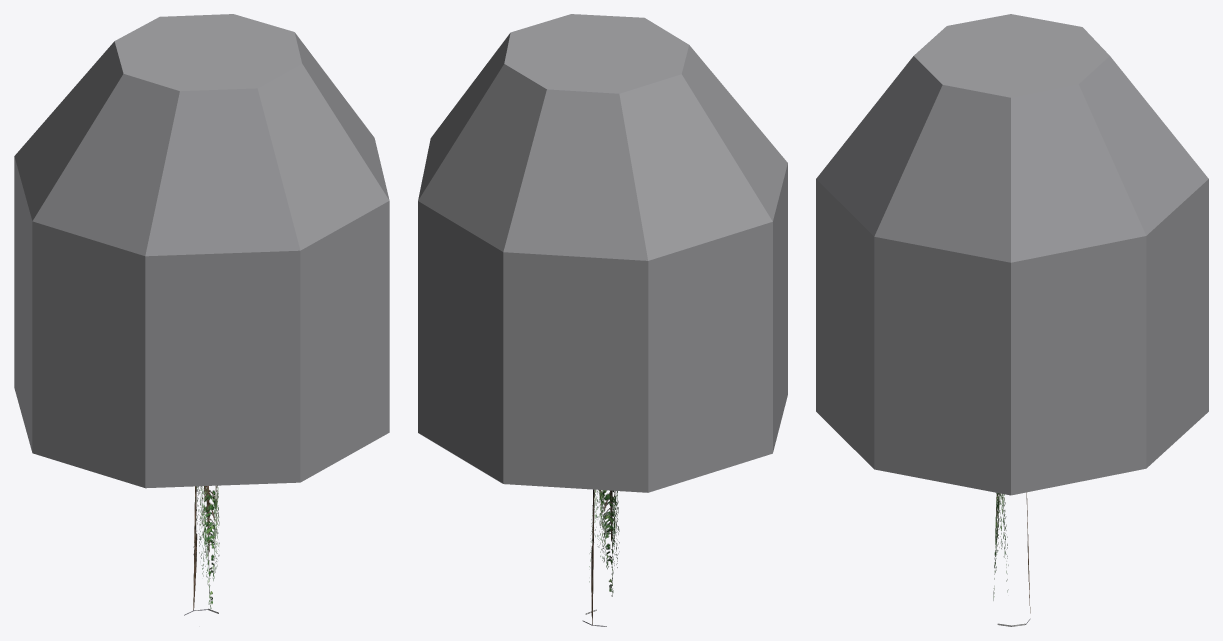
The model's file is tree4_chk.fbx.
The picture shows the model from 3 angles, left to right: view 1: azimuth 30°, elevation 25°; view 2: azimuth 150°, elevation 25°; view 3: azimuth 270°, elevation 25°; orthographic projection.
Visible parts, largest first — view 1: tree1_chk; view 2: tree1_chk; view 3: tree1_chk.
Boxes of the visible parts, box(x1,y1,x2,y2) form: tree1_chk: box(14, 14, 389, 615); tree1_chk: box(418, 14, 787, 626); tree1_chk: box(816, 14, 1208, 626).
Size of the model in its own units: 0.0604 by 0.0952 by 0.0599.
Materials: 1 (1 with a texture image).
